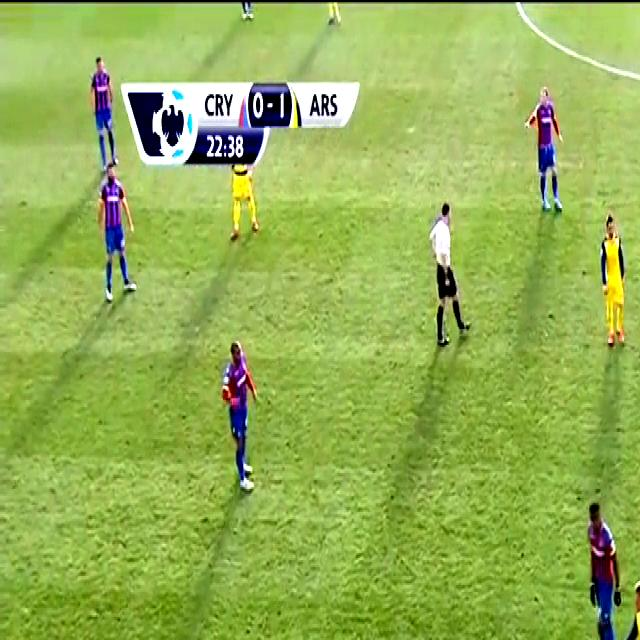referee: (423, 204, 478, 355)
soccer-player: (214, 336, 274, 499), (566, 496, 631, 640), (90, 160, 148, 306), (522, 84, 575, 220), (591, 213, 639, 355), (81, 55, 121, 161), (220, 158, 265, 248), (611, 578, 640, 640)
